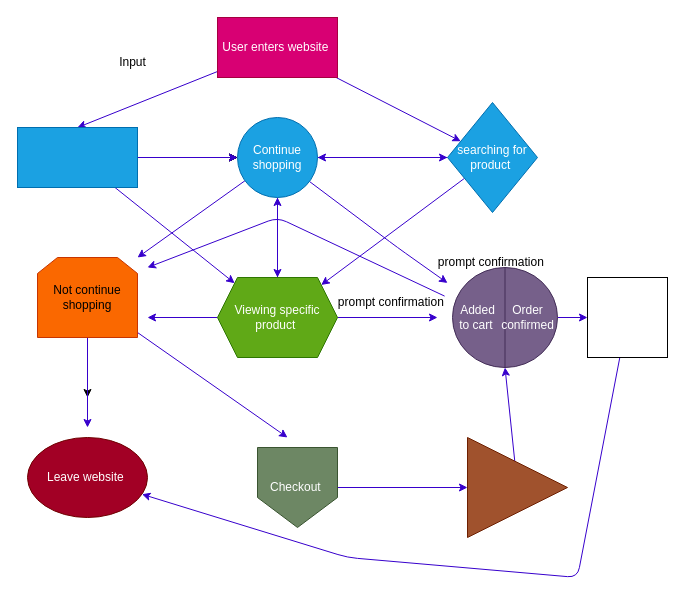
The diagram is 685 pixels wide and 603 high, and some of its shapes have lost their labels. The shapes that lost their labels are listed below. From the top down, each one's box as (x1, y1, x2, y2) in pixels, then its label:
(16, 126, 138, 188): Explores products home page
(586, 276, 668, 358): Order confirmation
(466, 436, 568, 538): View payment
